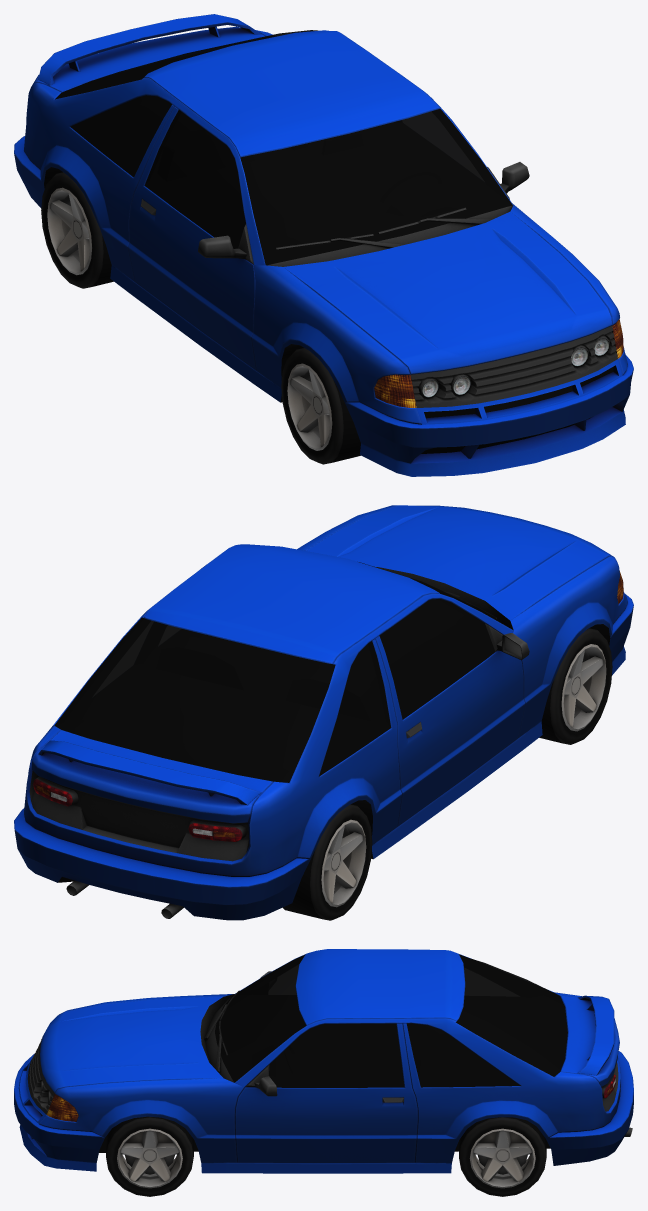
The model's file is Coupe.fbx.
3 views of the same model, one above another, from view 1: azimuth 30°, elevation 25°; view 2: azimuth 150°, elevation 25°; view 3: azimuth 270°, elevation 25° (orthographic). The views are drawn at different scales.
Parts seen in each view (by area): view 1: Coupe, Wheel_F002_Wheel_0, Wheel_F003_Wheel_0; view 2: Coupe, Wheel_F003_Wheel_0, Wheel_F002_Wheel_0; view 3: Coupe, Wheel_F_Wheel_0, Wheel_F001_Wheel_0.
Boxes of the visible parts, box(x1,y1,x2,y2) form: Coupe: box(14, 14, 633, 476); Wheel_F002_Wheel_0: box(281, 348, 360, 464); Wheel_F003_Wheel_0: box(41, 172, 113, 288); Coupe: box(14, 505, 633, 920); Wheel_F003_Wheel_0: box(282, 804, 372, 920); Wheel_F002_Wheel_0: box(539, 628, 612, 744); Coupe: box(14, 949, 633, 1173); Wheel_F_Wheel_0: box(106, 1116, 193, 1196); Wheel_F001_Wheel_0: box(459, 1117, 546, 1196).
Bounding box in the file's own units: 188 × 128 × 424.
4 materials, 3 textured.
